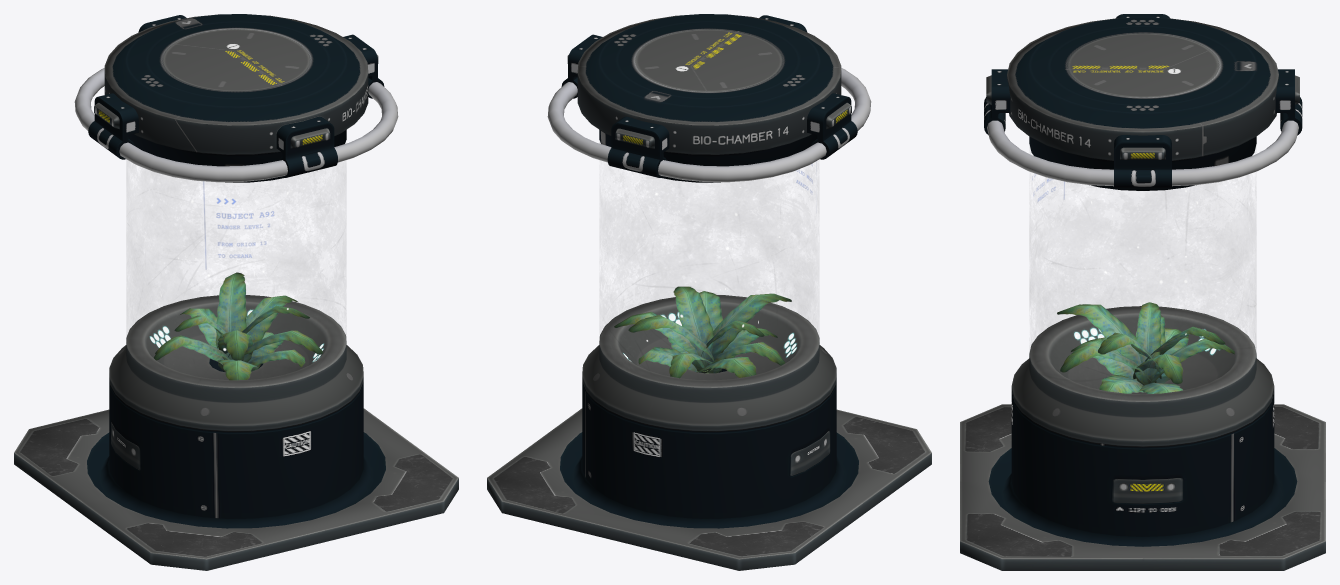
The picture shows the model from 3 angles, left to right: view 1: azimuth 30°, elevation 25°; view 2: azimuth 150°, elevation 25°; view 3: azimuth 270°, elevation 25°; orthographic projection. The views are drawn at different scales.
Visible parts, largest first — view 1: HydroUnit_02; view 2: HydroUnit_02; view 3: HydroUnit_02.
Part boxes in pixels (left/top/right/bottom): HydroUnit_02: left=14, top=14, right=458, bottom=570; HydroUnit_02: left=487, top=14, right=931, bottom=570; HydroUnit_02: left=960, top=14, right=1325, bottom=570.
Size of the model in its own units: 1.76 by 2.28 by 1.76.
4 materials, 4 textured.
